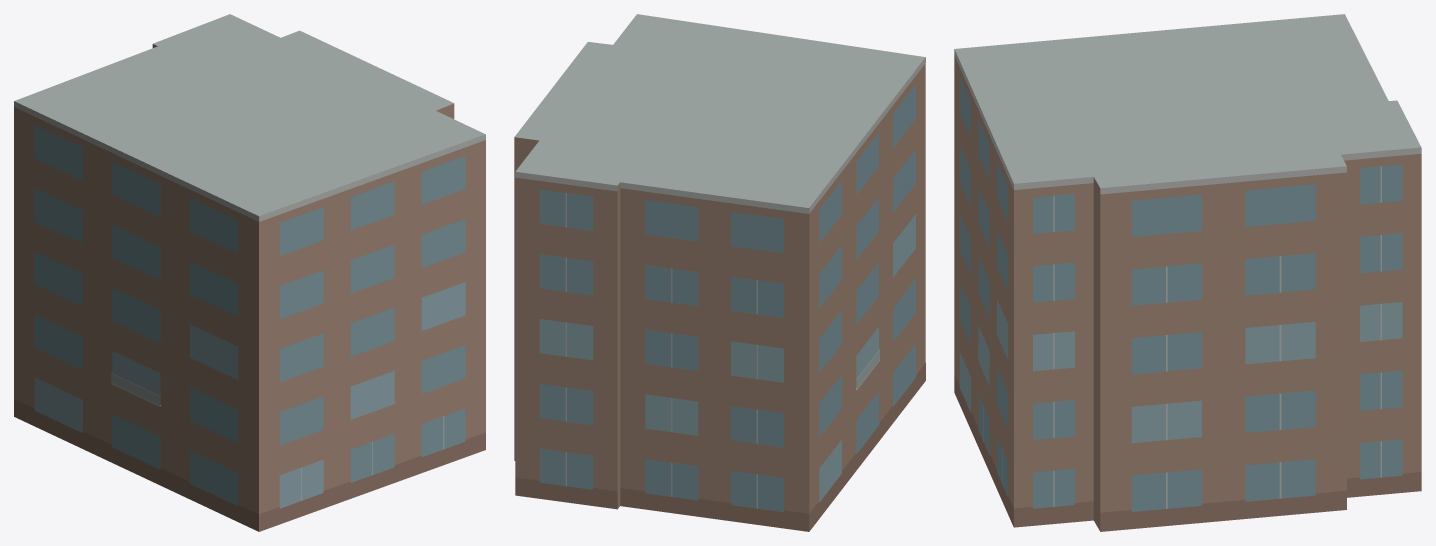
File: survey-upis-32949808.glb
The picture shows the model from 3 angles, left to right: view 1: azimuth 30°, elevation 25°; view 2: azimuth 150°, elevation 25°; view 3: azimuth 270°, elevation 25°; orthographic projection. The views are drawn at different scales.
Parts seen in each view (by area): view 1: survey-upis-32949808.tmp; view 2: survey-upis-32949808.tmp; view 3: survey-upis-32949808.tmp.
Part boxes in pixels (<box>): survey-upis-32949808.tmp: <box>14,14,485,531</box>; survey-upis-32949808.tmp: <box>514,14,925,531</box>; survey-upis-32949808.tmp: <box>954,14,1421,531</box>.
Bounding box in the file's own units: 14.7 × 13.5 × 16.64.
